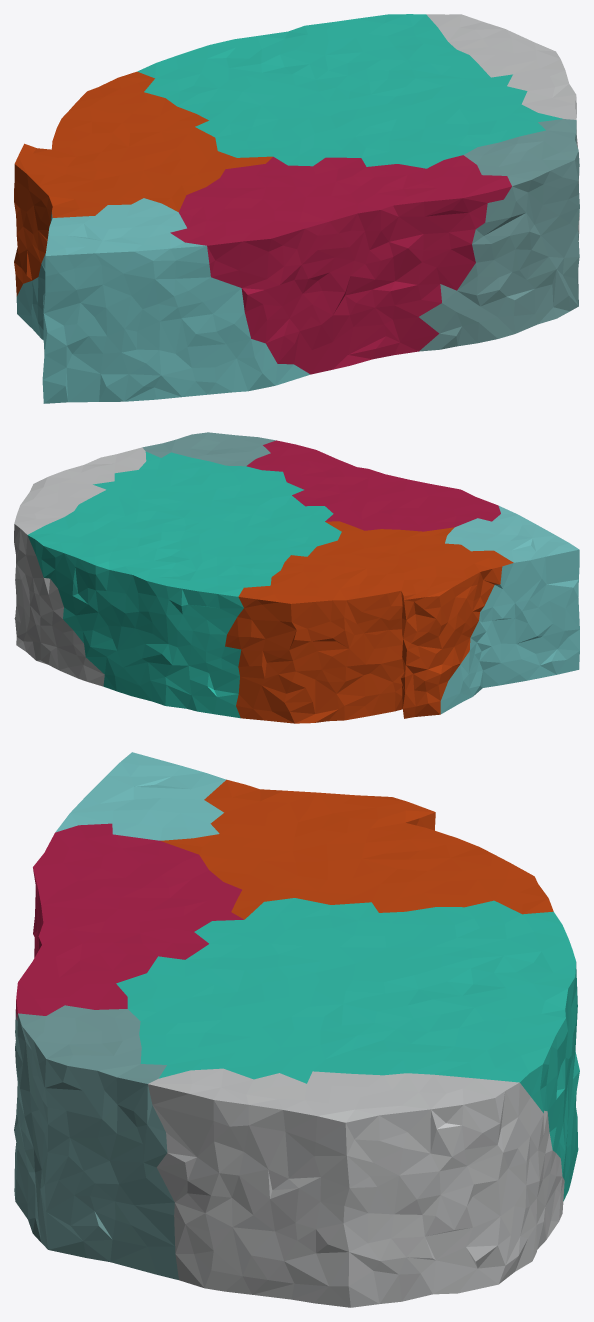
3 renders of one model, top to bottom at view 1: azimuth 30°, elevation 25°; view 2: azimuth 150°, elevation 25°; view 3: azimuth 270°, elevation 25°, orthographic. The views are drawn at different scales.
Parts seen in each view (by area): view 1: attribwrangle4; view 2: attribwrangle4; view 3: attribwrangle4.
Boxes of the visible parts, x1,y1,x2,y2 form: attribwrangle4: [14, 14, 579, 403]; attribwrangle4: [14, 432, 579, 723]; attribwrangle4: [14, 752, 579, 1307].
Bounding box in the file's own units: 63.24 × 15.24 × 40.97.
